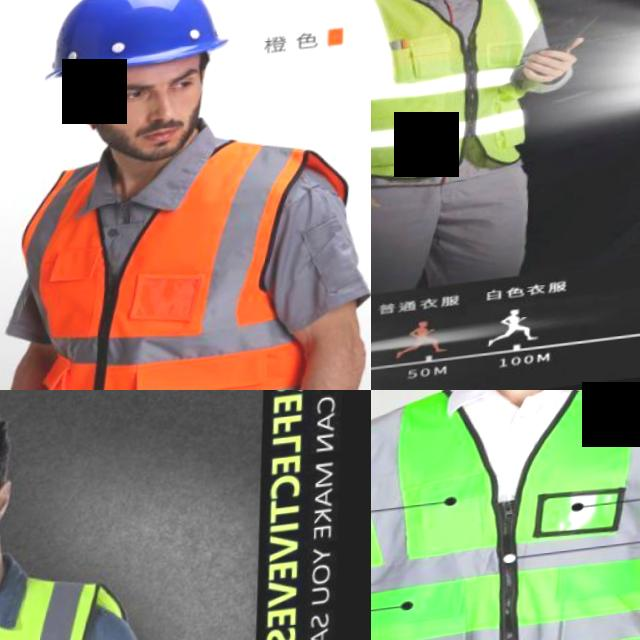vest: (33, 143, 335, 390), (371, 390, 640, 640), (371, 0, 549, 195)
